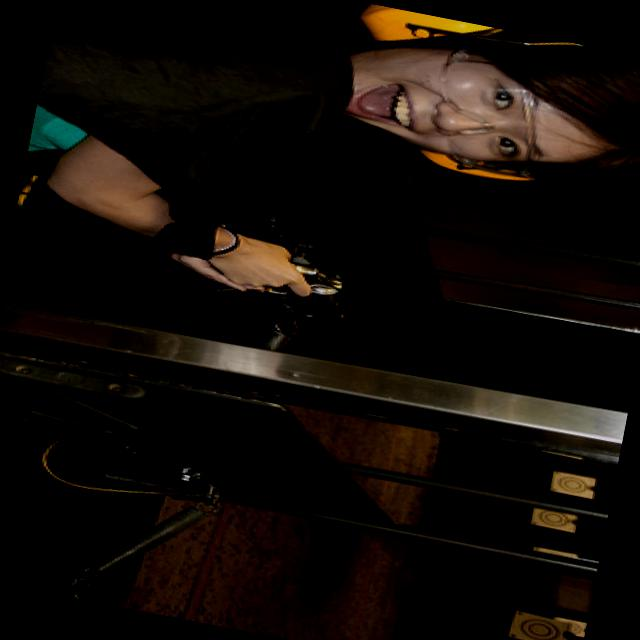handgun: (244, 250, 364, 330)
